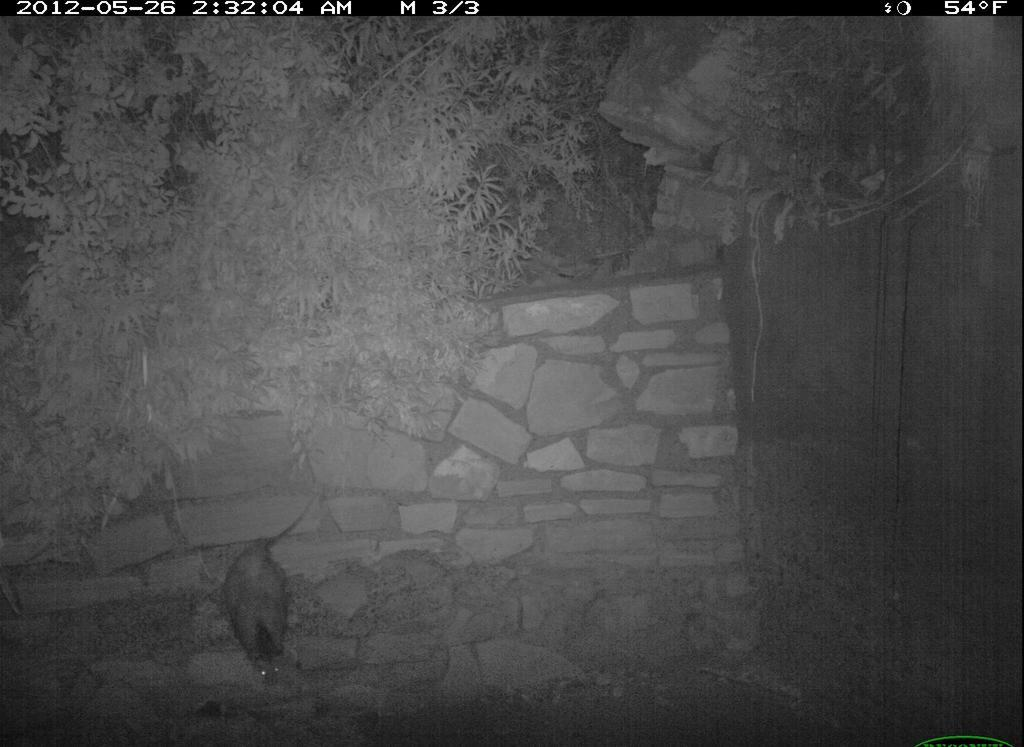opossum: (196, 501, 344, 697)
